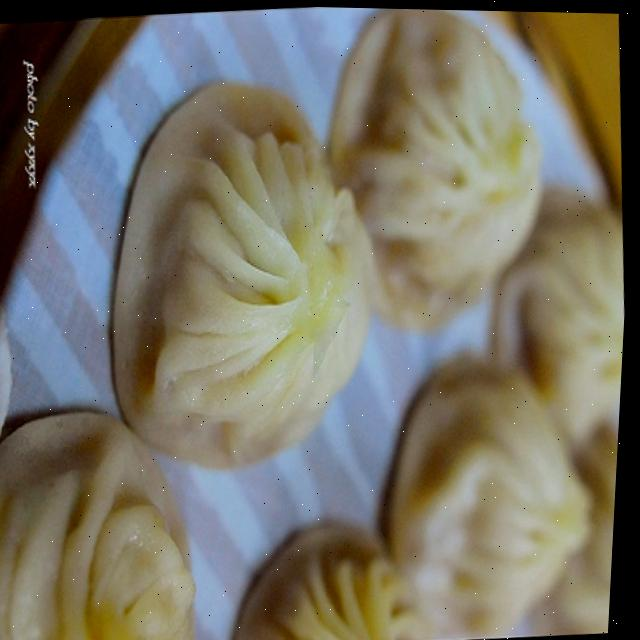带馅早点: (0, 9, 640, 640)
